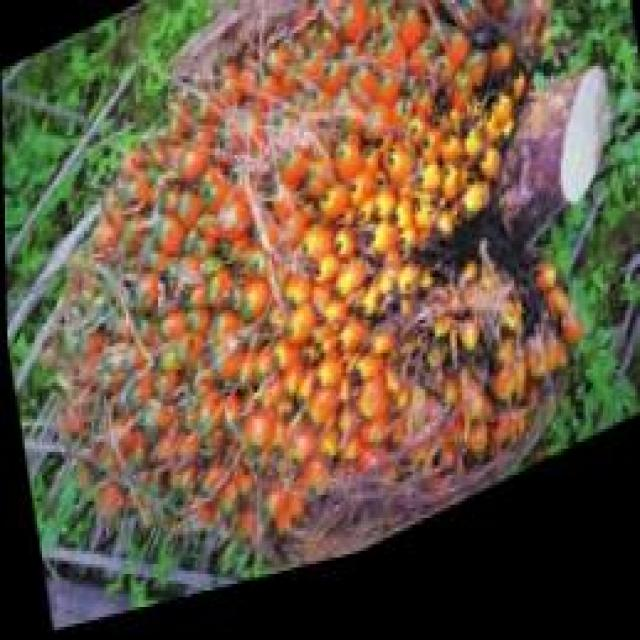Ripefruit: (9, 0, 616, 640)
